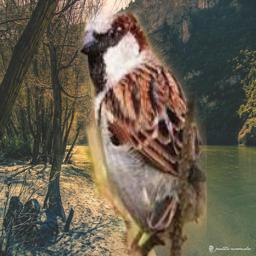Sparrow: (78, 0, 207, 256)
